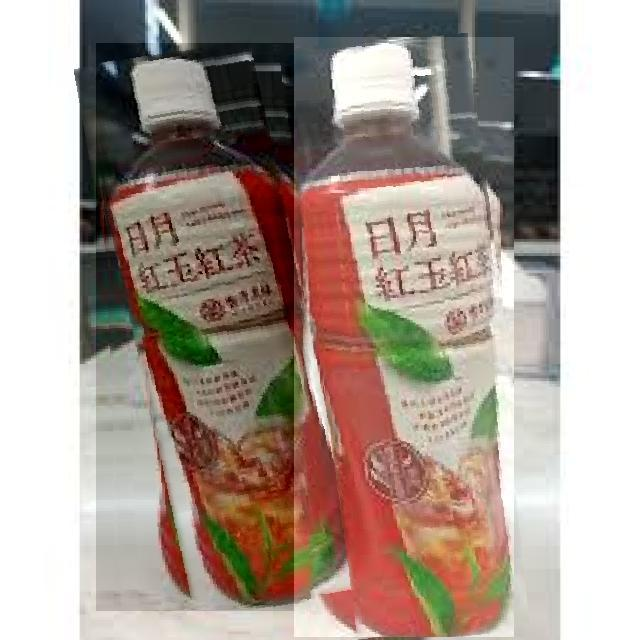RiYue_BlackTea: (294, 37, 514, 637), (96, 44, 323, 612)
